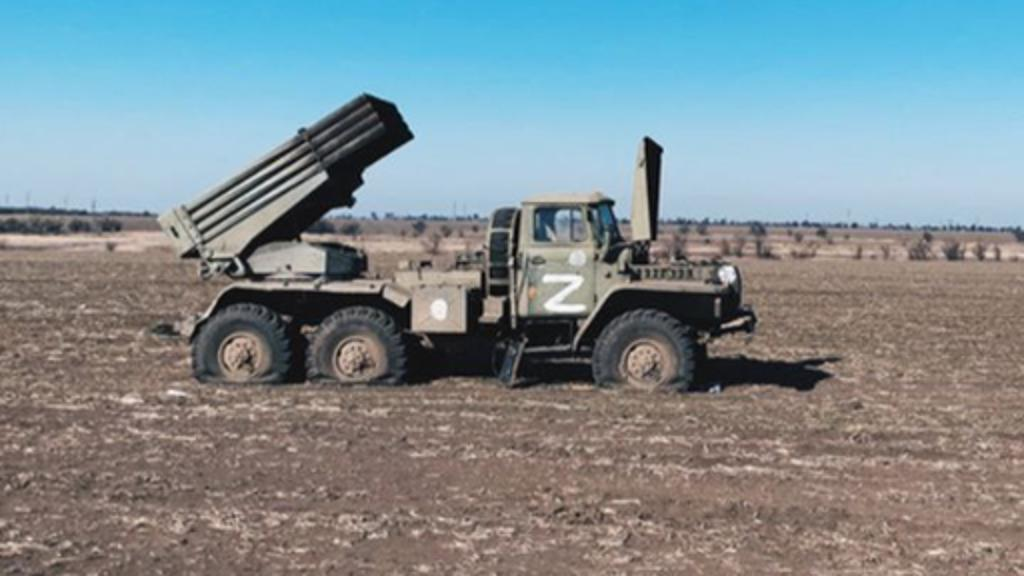MLRS: (150, 86, 756, 398)
